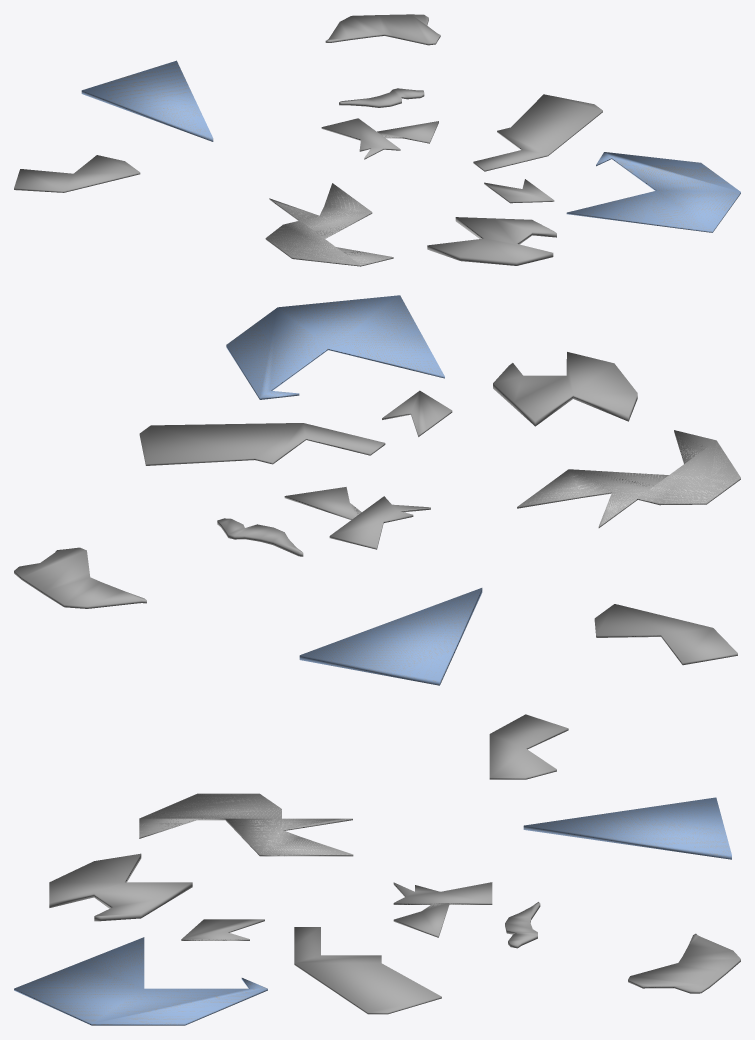
File: glass_shard_large.dae
3 renders of one model, top to bottom at view 1: azimuth 30°, elevation 25°; view 2: azimuth 150°, elevation 25°; view 3: azimuth 270°, elevation 25°, orthographic. The views are drawn at different scales.
Visible parts, largest first — view 1: instance_4, instance_0, instance_2, instance_6, instance_3, instance_1, instance_9, instance_7, instance_5, instance_8; view 2: instance_4, instance_0, instance_2, instance_6, instance_3, instance_1, instance_9, instance_7, instance_5, instance_8; view 3: instance_4, instance_0, instance_2, instance_6, instance_3, instance_1, instance_9, instance_7, instance_5, instance_8.
Boxes of the visible parts, x1,y1,x2,y2 form: instance_4: [566, 152, 740, 232]; instance_0: [81, 60, 213, 141]; instance_2: [265, 183, 393, 266]; instance_6: [473, 94, 602, 171]; instance_3: [427, 217, 556, 265]; instance_1: [14, 155, 140, 192]; instance_9: [325, 14, 440, 45]; instance_7: [321, 118, 438, 159]; instance_5: [484, 179, 554, 203]; instance_8: [339, 88, 424, 107]; instance_4: [226, 295, 444, 399]; instance_0: [299, 588, 482, 685]; instance_2: [517, 430, 740, 527]; instance_6: [139, 423, 385, 465]; instance_3: [493, 352, 637, 426]; instance_1: [594, 604, 737, 665]; instance_9: [14, 547, 146, 608]; instance_7: [284, 487, 430, 549]; instance_5: [382, 390, 452, 436]; instance_8: [217, 518, 303, 556]; instance_4: [14, 937, 267, 1025]; instance_0: [523, 797, 731, 859]; instance_2: [139, 793, 353, 856]; instance_6: [294, 927, 441, 1014]; instance_3: [49, 853, 192, 921]; instance_1: [489, 714, 568, 779]; instance_9: [628, 933, 740, 993]; instance_7: [393, 882, 492, 937]; instance_5: [181, 919, 264, 940]; instance_8: [505, 902, 540, 948].
Size of the model in its own units: 1.98 by 1.97 by 0.0147.
